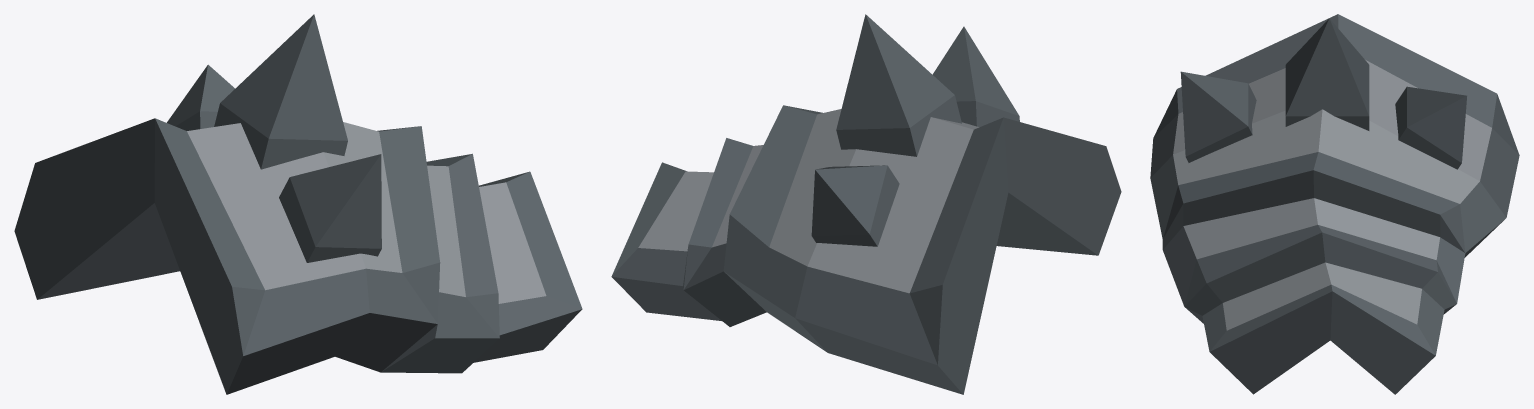
The model's file is Chr_ShoulderAttachLeft_08_Static.fbx.
3 views of the same model, side by side, from view 1: azimuth 30°, elevation 25°; view 2: azimuth 150°, elevation 25°; view 3: azimuth 270°, elevation 25° (orthographic). The views are drawn at different scales.
Parts seen in each view (by area): view 1: Chr_ShoulderAttachLeft_08_Static; view 2: Chr_ShoulderAttachLeft_08_Static; view 3: Chr_ShoulderAttachLeft_08_Static.
Boxes of the visible parts, left/top/right/bottom form: Chr_ShoulderAttachLeft_08_Static: left=14, top=14, right=582, bottom=394; Chr_ShoulderAttachLeft_08_Static: left=611, top=14, right=1121, bottom=394; Chr_ShoulderAttachLeft_08_Static: left=1150, top=14, right=1519, bottom=394.
Bounding box in the file's own units: 0.3246 × 0.2636 × 0.295.
